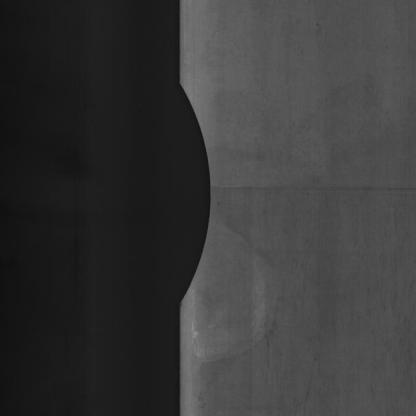crescent_gap: (160, 72, 221, 316)
welding_line: (194, 171, 416, 204)
